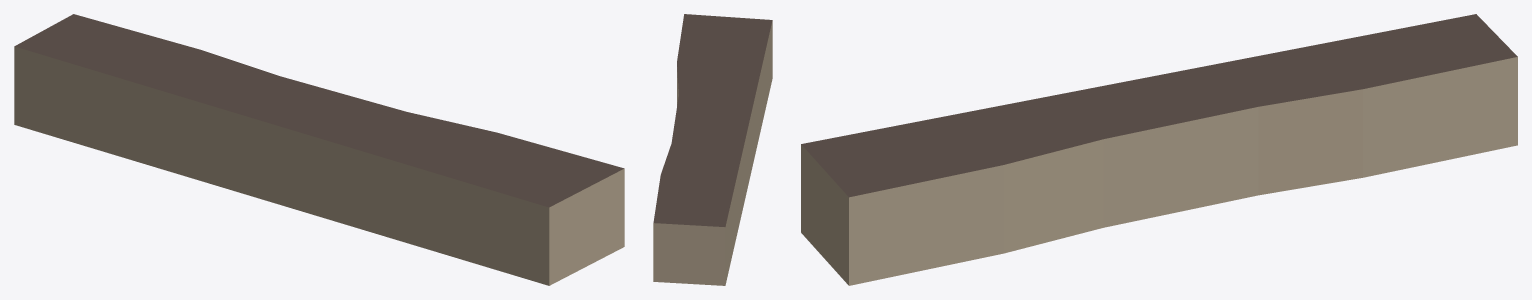
3 views of the same model, side by side, from view 1: azimuth 30°, elevation 25°; view 2: azimuth 150°, elevation 25°; view 3: azimuth 270°, elevation 25° (orthographic). The views are drawn at different scales.
Parts seen in each view (by area): view 1: HP-w1515076970; view 2: HP-w1515076970; view 3: HP-w1515076970.
Boxes of the visible parts, <box> form: HP-w1515076970: <box>14,14,624,285</box>; HP-w1515076970: <box>653,14,772,285</box>; HP-w1515076970: <box>801,14,1517,285</box>.
Bounding box in the file's own units: 39.95 × 9 × 65.99.
